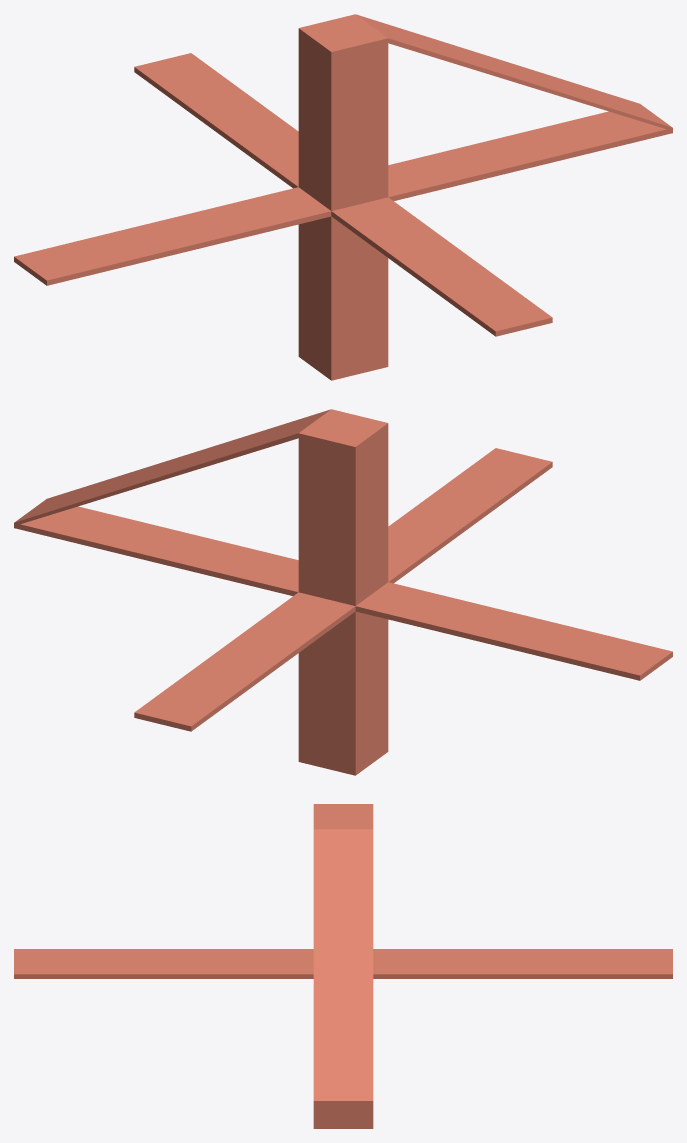
File: rect.gltf
3 renders of one model, top to bottom at view 1: azimuth 30°, elevation 25°; view 2: azimuth 150°, elevation 25°; view 3: azimuth 270°, elevation 25°, orthographic. The views are drawn at different scales.
Parts seen in each view (by area): view 1: Cube; view 2: Cube; view 3: Cube.
Part boxes in pixels (bbox=[...]): Cube: bbox=[14, 14, 672, 380]; Cube: bbox=[14, 409, 672, 775]; Cube: bbox=[14, 804, 672, 1128].
Size of the model in its own units: 22 by 11.03 by 22.
